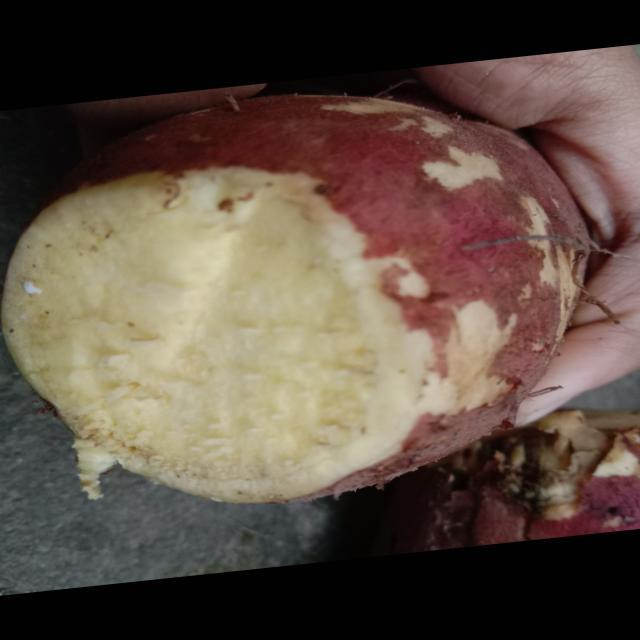Healthy Sweet Potato: (3, 168, 433, 502)
